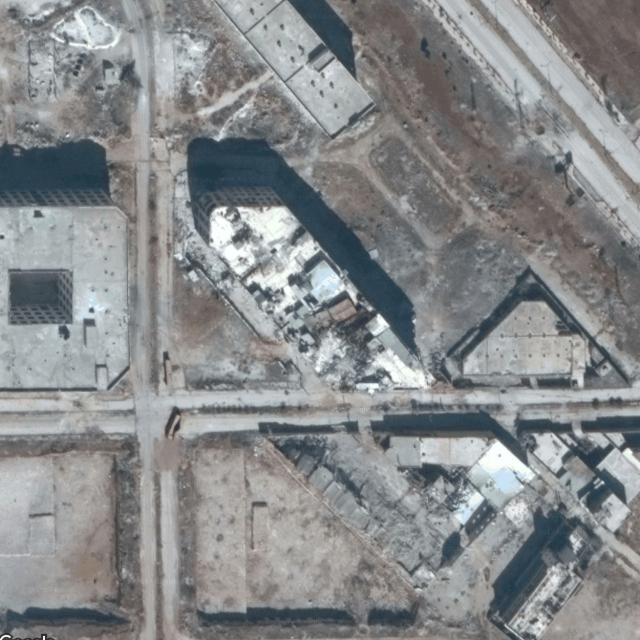damaged_building: (300, 307, 437, 399)
